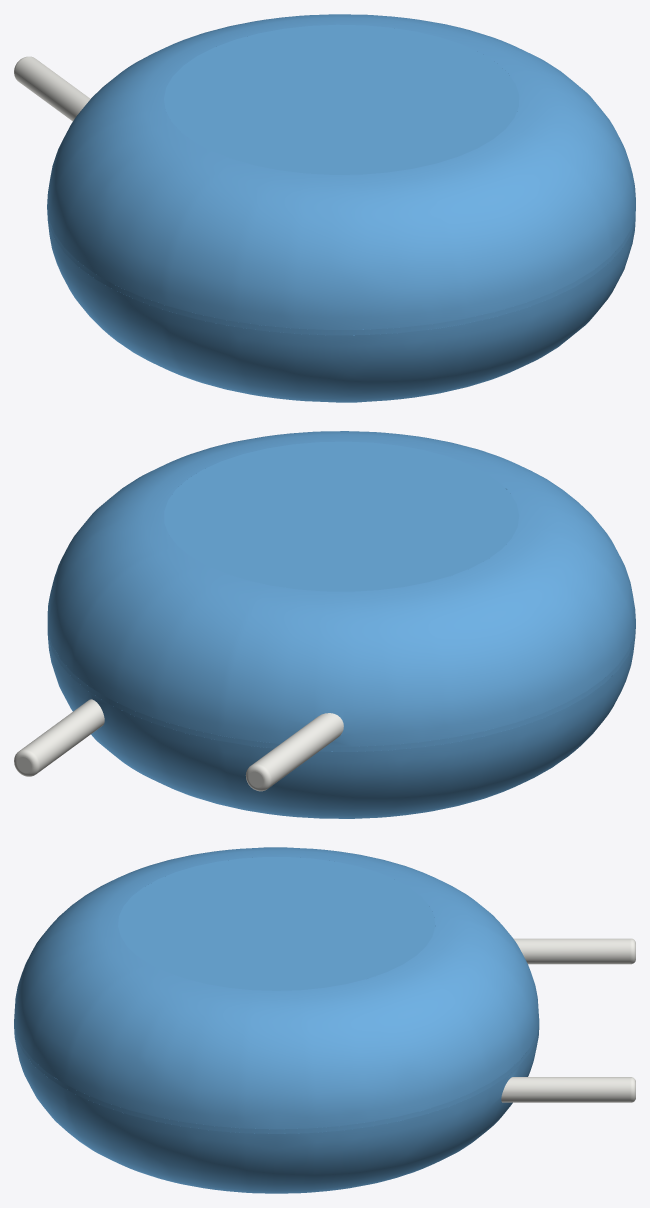
The model's file is RV_Disc_D16.5mm_W6.7mm_P7.5mm.glb.
3 renders of one model, top to bottom at view 1: azimuth 30°, elevation 25°; view 2: azimuth 150°, elevation 25°; view 3: azimuth 270°, elevation 25°, orthographic. The views are drawn at different scales.
Visible parts, largest first — view 1: Shape_IndexedFaceSet.001, Shape_IndexedFaceSet.003, Shape_IndexedFaceSet.002, Shape_IndexedFaceSet, Shape_IndexedFaceSet.004; view 2: Shape_IndexedFaceSet.001, Shape_IndexedFaceSet.003, Shape_IndexedFaceSet.002, Shape_IndexedFaceSet, Shape_IndexedFaceSet.004, Shape_IndexedFaceSet.006; view 3: Shape_IndexedFaceSet.001, Shape_IndexedFaceSet.003, Shape_IndexedFaceSet.002, Shape_IndexedFaceSet.006, Shape_IndexedFaceSet.004, Shape_IndexedFaceSet.
Part boxes in pixels (left/top/right/bottom): Shape_IndexedFaceSet.001: left=47, top=14, right=635, bottom=329; Shape_IndexedFaceSet.003: left=164, top=24, right=519, bottom=174; Shape_IndexedFaceSet.002: left=47, top=213, right=635, bottom=402; Shape_IndexedFaceSet: left=47, top=204, right=635, bottom=335; Shape_IndexedFaceSet.004: left=14, top=57, right=90, bottom=121; Shape_IndexedFaceSet.001: left=47, top=431, right=635, bottom=746; Shape_IndexedFaceSet.003: left=164, top=441, right=519, bottom=591; Shape_IndexedFaceSet.002: left=48, top=628, right=635, bottom=818; Shape_IndexedFaceSet: left=47, top=623, right=635, bottom=751; Shape_IndexedFaceSet.004: left=252, top=713, right=343, bottom=787; Shape_IndexedFaceSet.006: left=20, top=699, right=104, bottom=773; Shape_IndexedFaceSet.001: left=14, top=847, right=539, bottom=1129; Shape_IndexedFaceSet.003: left=118, top=857, right=435, bottom=990; Shape_IndexedFaceSet.002: left=14, top=1027, right=539, bottom=1193; Shape_IndexedFaceSet.006: left=501, top=1077, right=630, bottom=1102; Shape_IndexedFaceSet.004: left=514, top=938, right=630, bottom=964; Shape_IndexedFaceSet: left=14, top=1022, right=539, bottom=1133.
Bounding box in the file's own units: 6.49 × 2.64 × 7.69.
